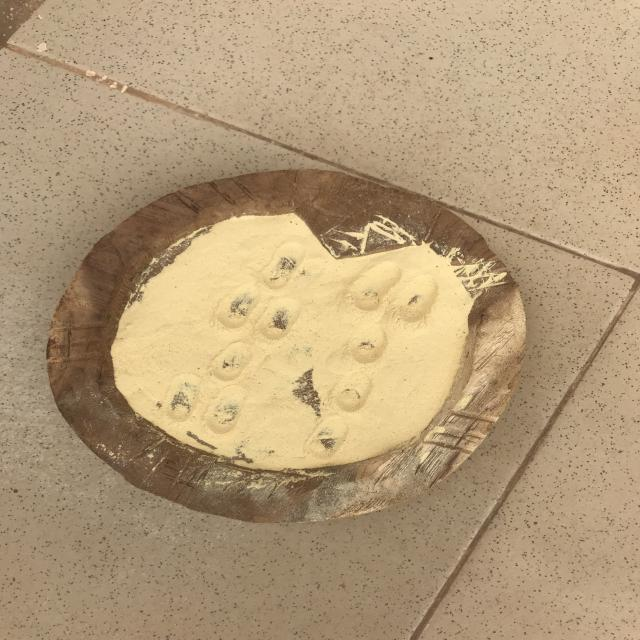double: (342, 259, 442, 324), (158, 374, 246, 429), (210, 286, 300, 339)
single: (256, 236, 309, 290), (330, 362, 377, 414), (207, 342, 253, 379), (340, 328, 390, 362), (309, 415, 344, 463)
